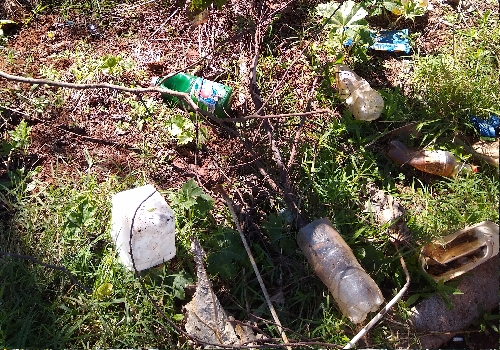trash: (315, 27, 500, 168), (294, 206, 500, 327), (92, 173, 191, 282), (141, 64, 237, 126)
